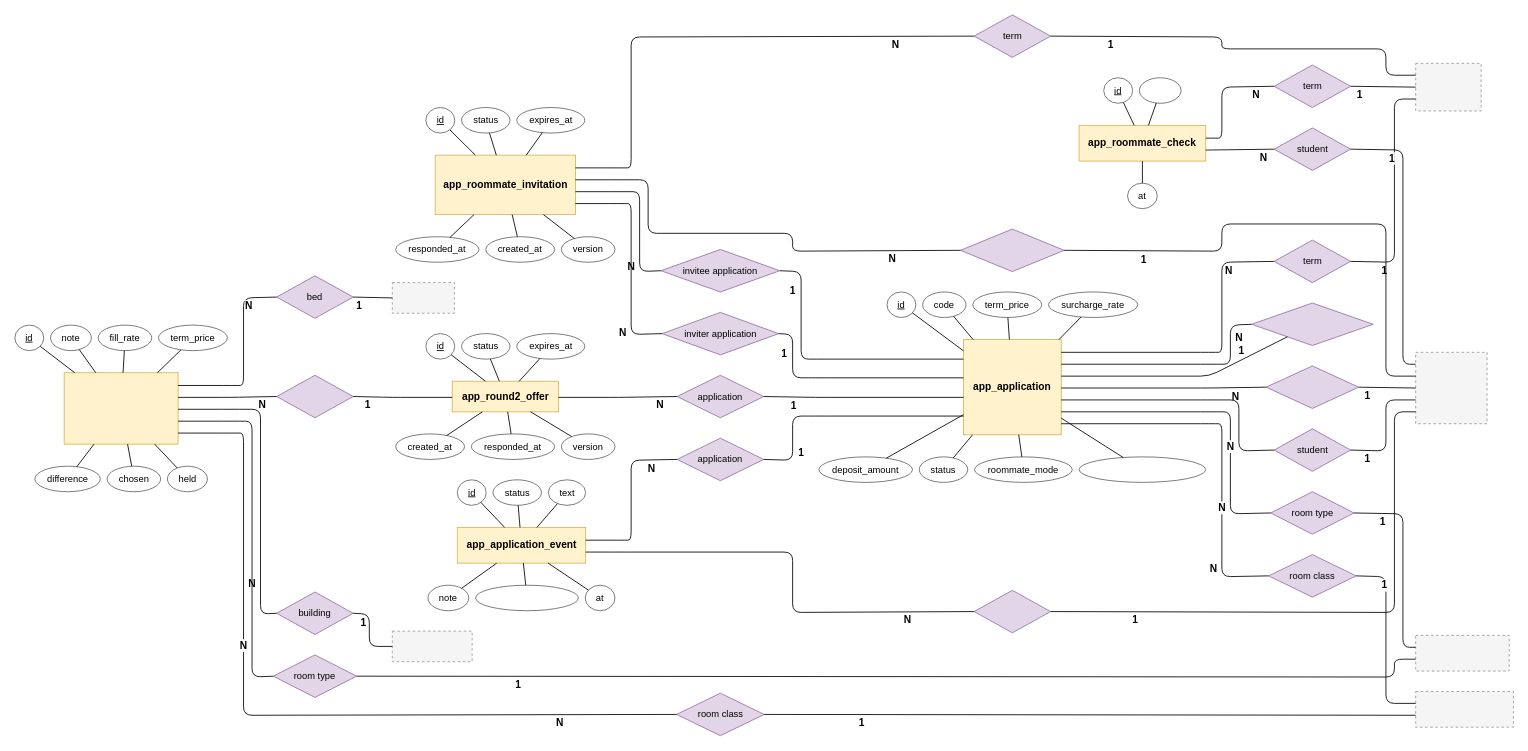
The diagram is 1528 pixels wide and 751 high, and some of its shapes have lost their labels. The shapes that lost their labels are listed below. From the top down, each one's centre as x and y in pixels, then its label:
At point (1160, 90): "valid".
At point (1448, 86): "cfg_term".
At point (1012, 250): "invitee student".
At point (422, 297): "inv_bed".
At point (1312, 324): "partner application".
At point (314, 396): "offer".
At point (1312, 386): "reviewed by".
At point (1451, 387): "auth_user".
At point (120, 408): "app_round2_option".
At point (1142, 469): "roommate_preferences".
At point (526, 597): "visible_to_student".
At point (1012, 611): "actor".
At point (431, 646): "inv_building".
At point (1462, 653): "cfg_room_type".
At point (1464, 709): "cfg_room_class".
